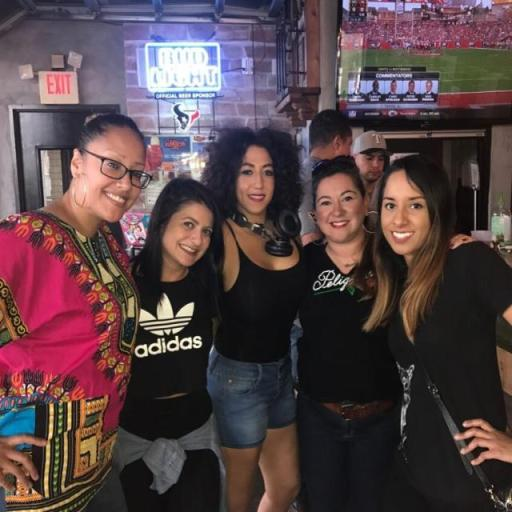Adidas: (131, 292, 204, 359)
